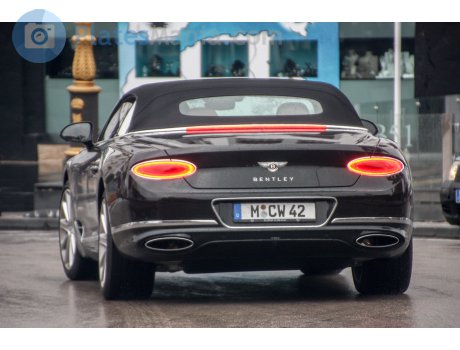License Plates: (240, 203, 309, 216)
